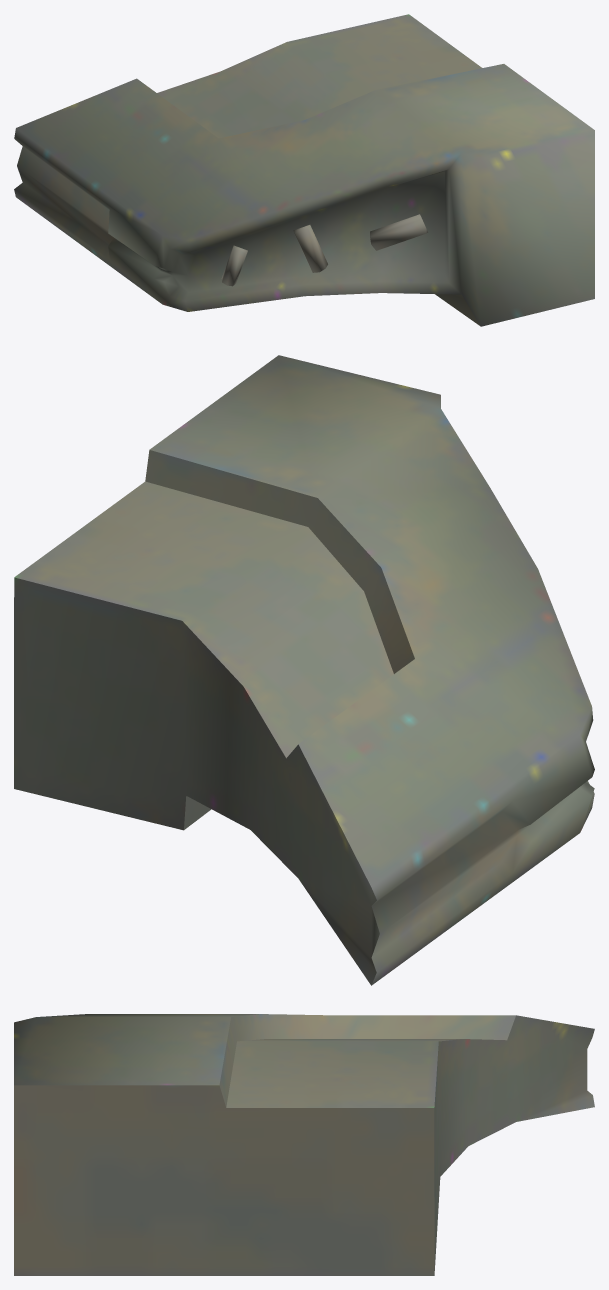
Rendered from acc1.obj.
3 renders of one model, top to bottom at view 1: azimuth 30°, elevation 25°; view 2: azimuth 150°, elevation 25°; view 3: azimuth 270°, elevation 25°, orthographic. The views are drawn at different scales.
Parts seen in each view (by area): view 1: acc1; view 2: acc1; view 3: acc1.
Boxes of the visible parts, x1,y1,x2,y2 form: acc1: (14, 14, 594, 326); acc1: (14, 355, 594, 985); acc1: (14, 1014, 594, 1275).
Bounding box in the file's own units: 12.3 × 6.25 × 16.49.
